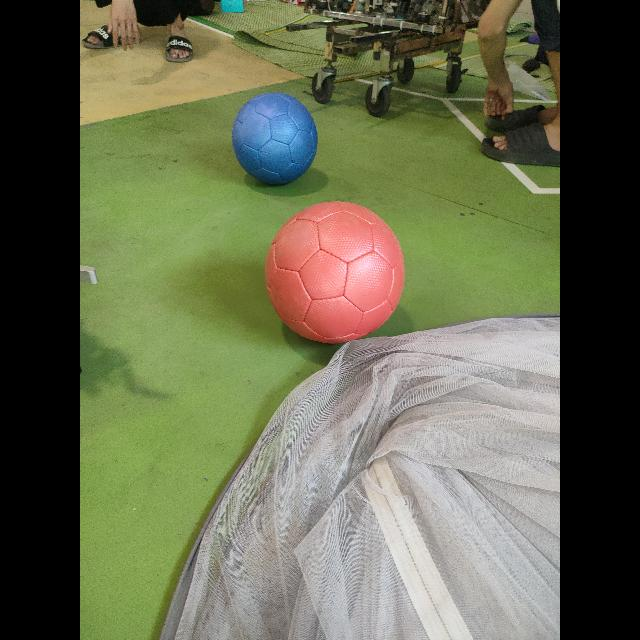B: (231, 93, 319, 189)
R: (265, 202, 406, 346)
